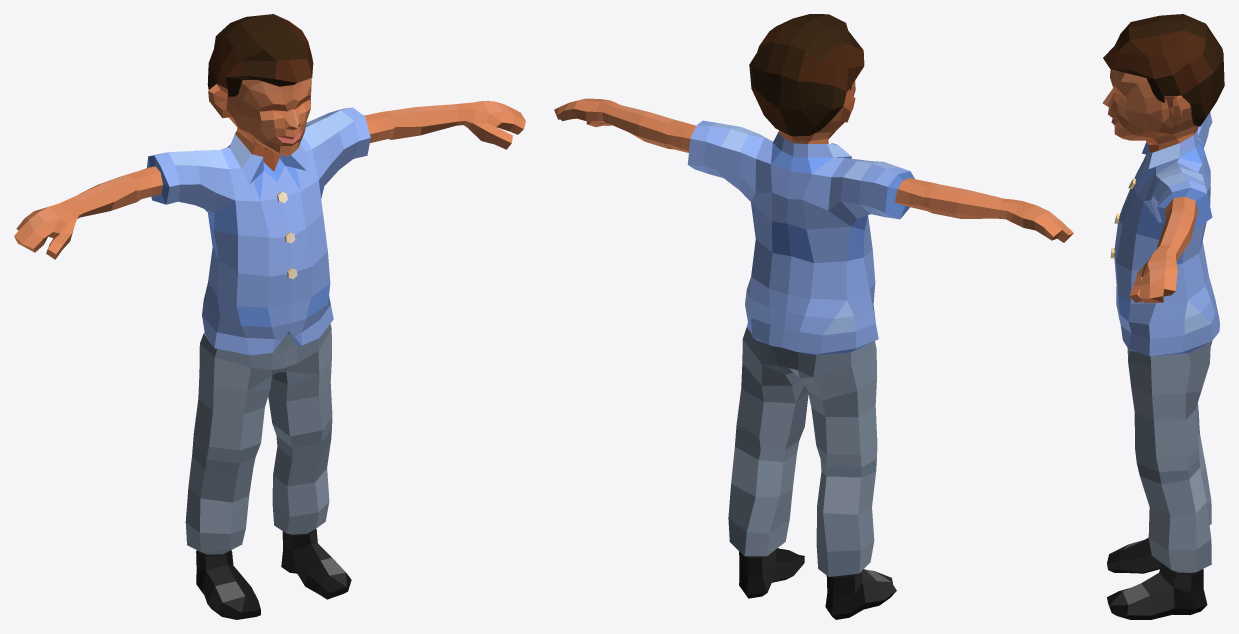
The model's file is little_boy_B-model.fbx.
3 views of the same model, side by side, from view 1: azimuth 30°, elevation 25°; view 2: azimuth 150°, elevation 25°; view 3: azimuth 270°, elevation 25° (orthographic).
Parts seen in each view (by area): view 1: little_boy_B, hair; view 2: little_boy_B, hair; view 3: little_boy_B, hair.
Boxes of the visible parts, left/top/right/bottom form: little_boy_B: left=14, top=78, right=525, bottom=619; hair: left=207, top=14, right=313, bottom=96; little_boy_B: left=554, top=80, right=1073, bottom=619; hair: left=749, top=14, right=864, bottom=136; little_boy_B: left=1102, top=69, right=1219, bottom=619; hair: left=1103, top=14, right=1224, bottom=126.
Size of the model in its own units: 92.93 by 99.36 by 19.31.
1 material, 1 textured.
